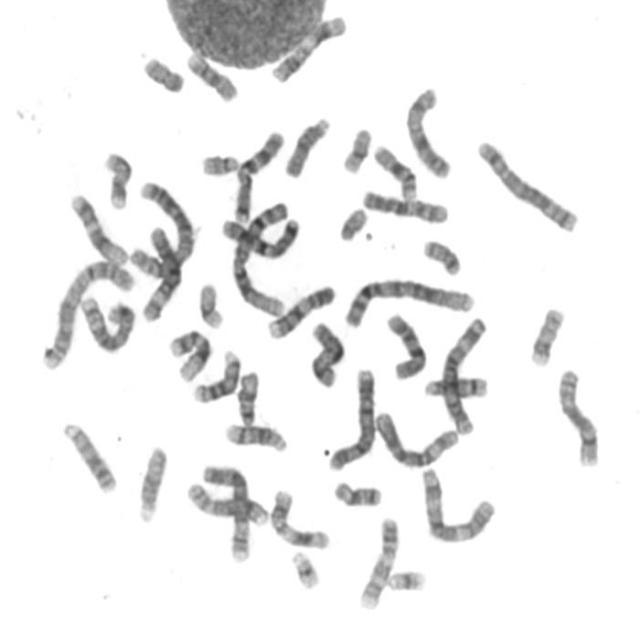A1: (226, 196, 295, 320), (338, 272, 476, 330)
A2: (37, 254, 137, 372), (125, 174, 198, 280)
A3: (416, 462, 497, 545), (437, 310, 490, 436)
B4: (322, 362, 378, 472), (197, 456, 253, 564)
B5: (472, 134, 580, 234), (74, 290, 137, 354)
C10: (356, 184, 450, 226), (381, 308, 429, 382)
C11: (265, 9, 348, 84), (265, 484, 331, 551)
C12: (64, 188, 129, 268), (163, 323, 213, 382)
C6: (369, 406, 462, 470), (137, 222, 182, 324)
C7: (229, 123, 287, 224), (216, 210, 302, 260)
C8: (552, 362, 602, 468), (181, 475, 271, 528)
C9: (354, 512, 400, 611), (262, 280, 336, 340)
D13: (57, 416, 119, 494), (188, 344, 242, 404)
D14: (219, 416, 290, 454), (419, 370, 490, 400)
D15: (280, 110, 332, 179), (132, 440, 169, 525)
E16: (181, 45, 240, 103), (368, 140, 419, 202)
E17: (525, 302, 567, 368), (99, 146, 133, 212)
E18: (232, 366, 262, 428), (328, 476, 384, 509)
F19: (193, 276, 226, 330), (339, 128, 375, 174)
F20: (418, 234, 462, 278), (136, 58, 188, 94)
G21: (286, 544, 320, 592), (381, 564, 429, 594)
G22: (196, 148, 240, 178), (339, 208, 370, 240)
X: (401, 81, 454, 180), (304, 316, 348, 389)
